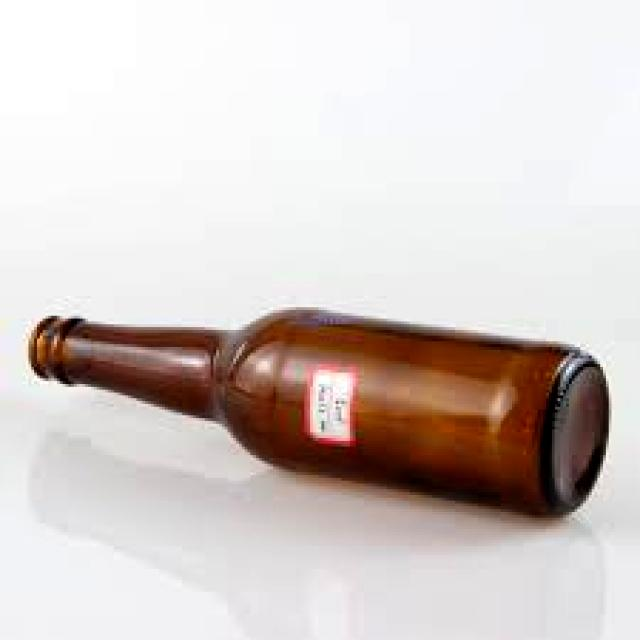Glass: (21, 297, 619, 529)
